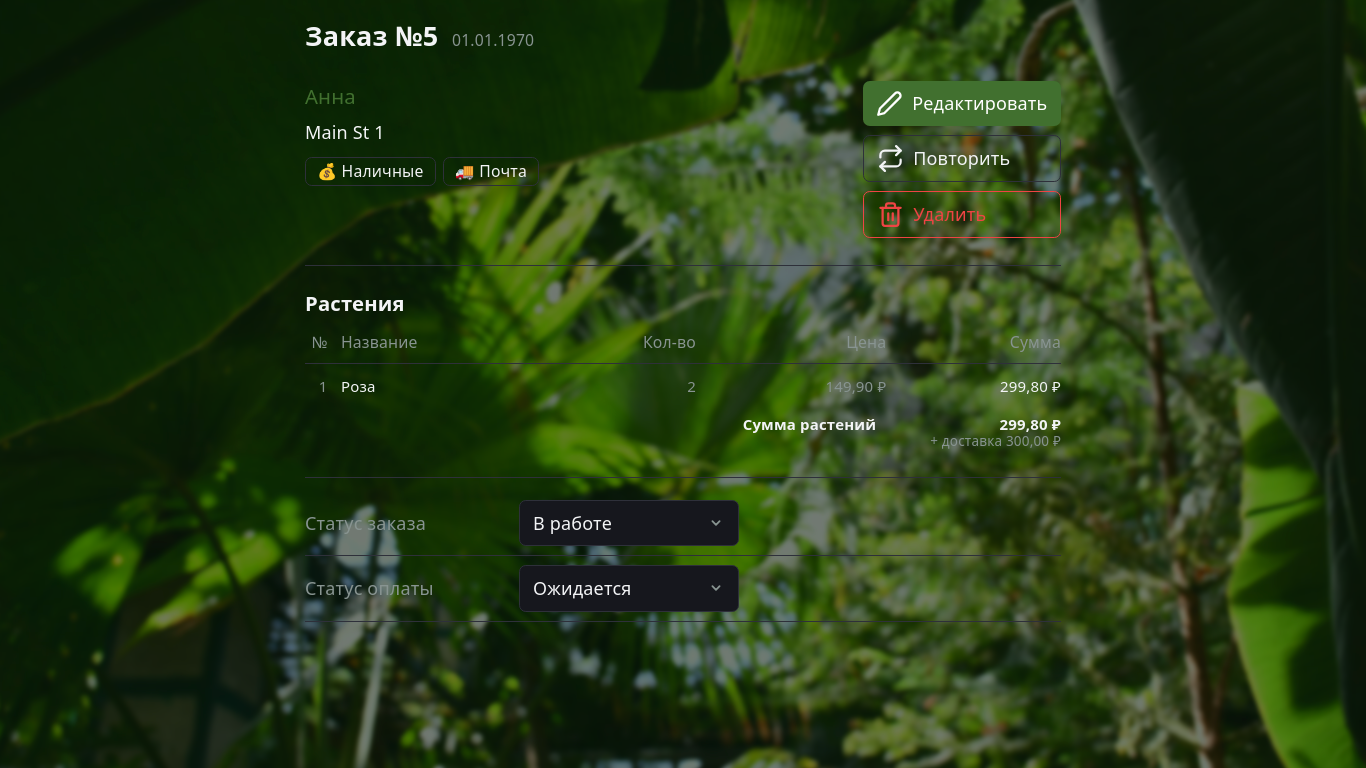
OrderDetailPage › stamps the completion time when the order is marked delivered
Expected: the heading "Заказ №5" is shown, [305,18,438,54]
Select "Выполнен" in the dropdown named "Статус заказа": (628, 523) [518,500,738,546]
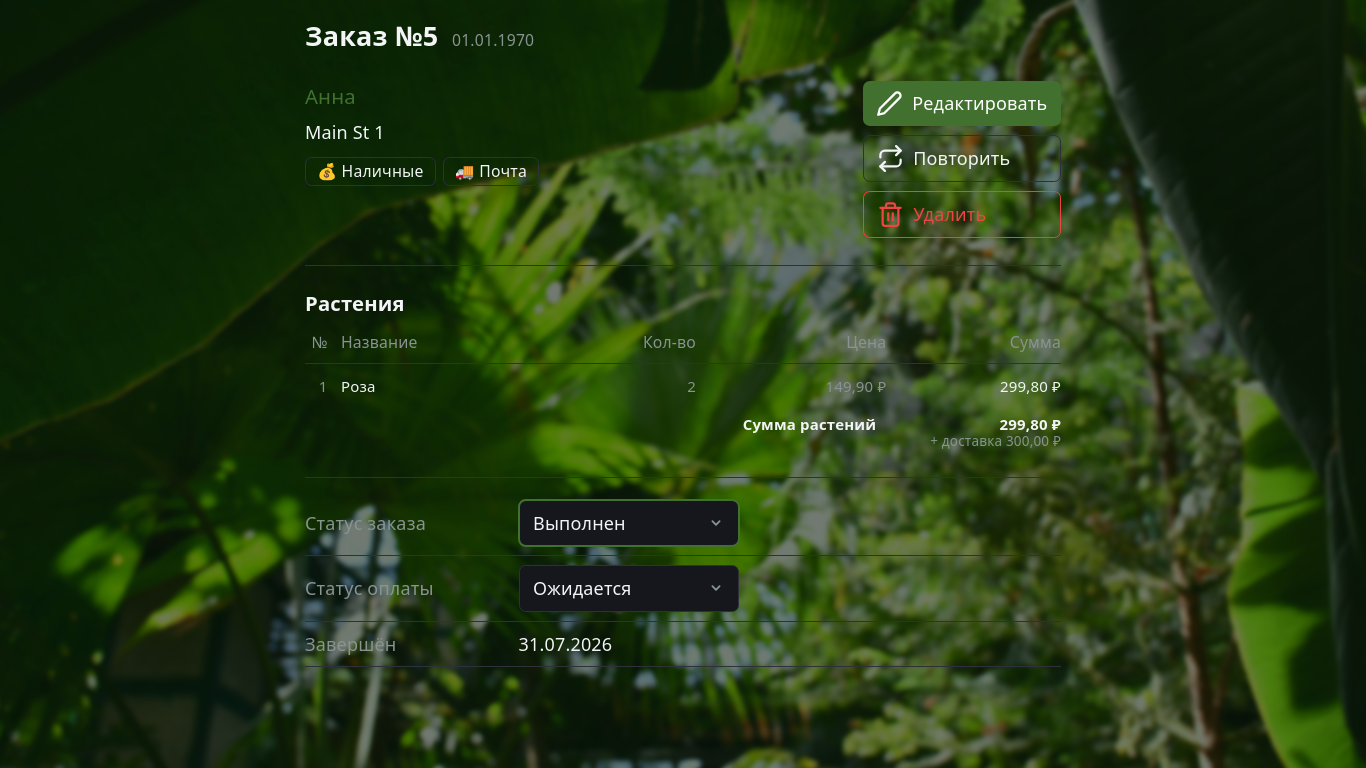
Result: the text "Завершён" is shown at [305,632,396,656]
